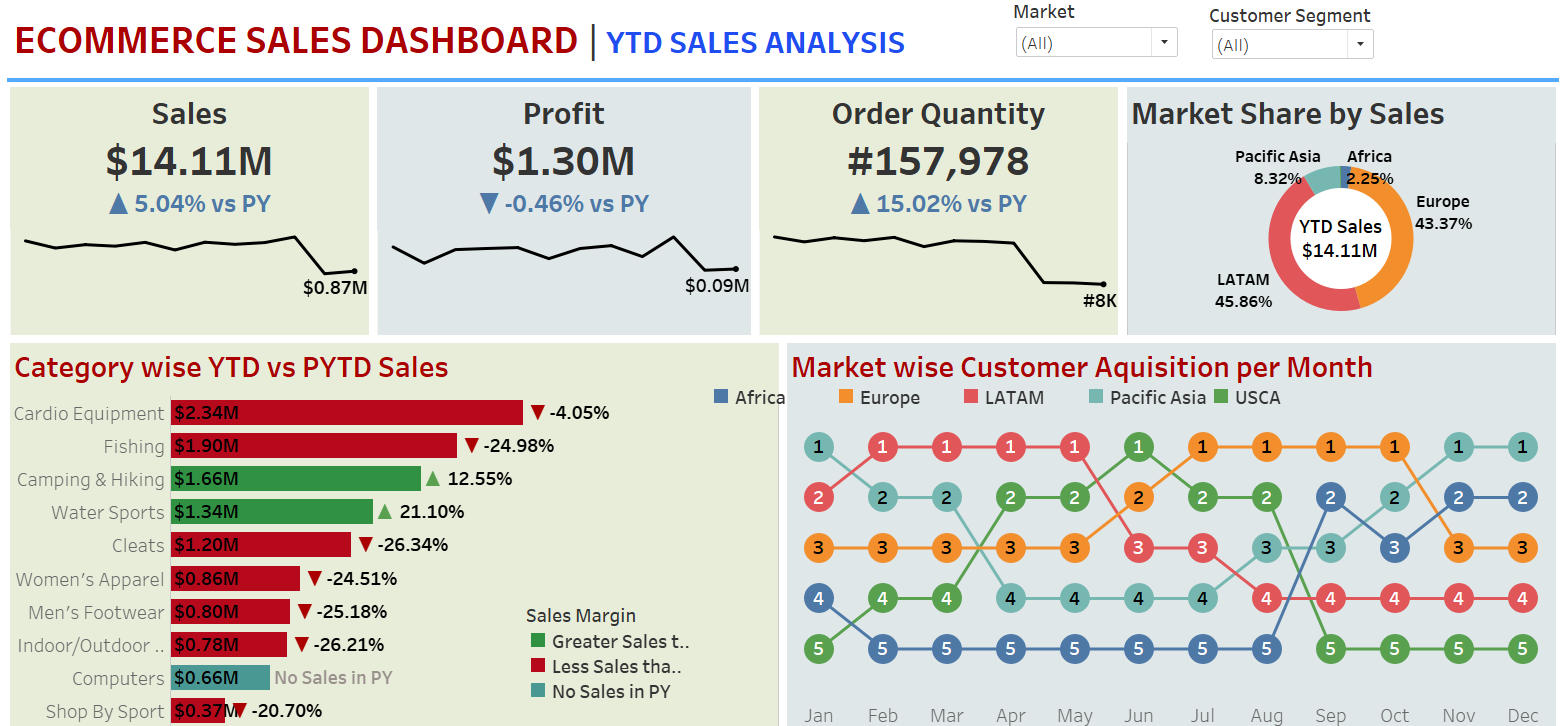

Layout of this report page (visuals, bound fields, positions):
{"tool":"tableau","page":{"name":"ECOMMERCE SALES DASHBOARD","canvas":[1000,1000],"units":"permille","ordinal":0},"visuals":[{"type":"title","box":[5.1,10.7,989.8,101.7]},{"type":"filter","title":"Sales KPI","param":"[federated.1iztbae1we1b9b1ckgy5d171004m].[none:Market:nk]","box":[646.5,22.8,107,83]},{"type":"filter","title":"Category wise YTD vs PYTD Sales","param":"[federated.1iztbae1we1b9b1ckgy5d171004m].[none:Customer Segment:nk]","box":[772,24.1,107,79]},{"type":"blank","box":[5.1,112.5,989.8,8]},{"type":"worksheet","title":"Sales KPI","mark":"Automatic","rows":["Sales"],"cols":["Order Date"],"box":[5.1,120.5,234,342.7]},{"type":"worksheet","title":"Profit KPI","mark":"Automatic","rows":["Profit Per Order"],"cols":["Order Date"],"box":[239.1,120.5,243.3,342.7]},{"type":"worksheet","title":"Order Quantity KPI","mark":"Automatic","rows":["Order Quantity"],"cols":["Order Date"],"box":[482.4,120.5,234,342.7]},{"type":"worksheet","title":"Market Share by Sales","mark":"Pie","cols":["Calculation_253608996015587334","Calculation_253608996015628296"],"box":[716.5,120.5,278.4,342.7]},{"type":"worksheet","title":"Category wise YTD vs PYTD Sales","mark":"Bar","rows":["Category Name"],"cols":["Calculation_253608996018880521","Calculation_253608996018880521"],"box":[5.1,463.2,494.9,526.1]},{"type":"worksheet","title":"Market wise Customer Aquisition per Month","mark":"Automatic","cols":["Order Date"],"box":[500,463.2,494.9,526.1]},{"type":"legend","title":"Market wise Customer Aquisition per Month","param":"[federated.1iztbae1we1b9b1ckgy5d171004m].[none:Market:nk]","box":[504.5,524.8,436.3,48.2]},{"type":"legend","title":"Category wise YTD vs PYTD Sales","param":"[federated.1iztbae1we1b9b1ckgy5d171004m].[usr:Calculation_633881689753157634:nk]","box":[336.3,815.3,107.6,135.2]}]}

Visuals, with their boxes on the dashboard's canvas, which has no fixed pixel size, in thousandths of its width and height (x1, y1, x2, y2). These are canvas units, not pixel positions in the 1560x726 screenshot, which may show the page scaled, cropped or inside an application window:
title: left=5, top=11, right=995, bottom=112
"Sales KPI" filter: left=646, top=23, right=754, bottom=106
"Category wise YTD vs PYTD Sales" filter: left=772, top=24, right=879, bottom=103
blank: left=5, top=112, right=995, bottom=120
"Sales KPI" worksheet: left=5, top=120, right=239, bottom=463
"Profit KPI" worksheet: left=239, top=120, right=482, bottom=463
"Order Quantity KPI" worksheet: left=482, top=120, right=716, bottom=463
"Market Share by Sales" worksheet (Pie marks): left=716, top=120, right=995, bottom=463
"Category wise YTD vs PYTD Sales" worksheet (Bar marks): left=5, top=463, right=500, bottom=989
"Market wise Customer Aquisition per Month" worksheet: left=500, top=463, right=995, bottom=989
"Market wise Customer Aquisition per Month" legend: left=504, top=525, right=941, bottom=573
"Category wise YTD vs PYTD Sales" legend: left=336, top=815, right=444, bottom=950
